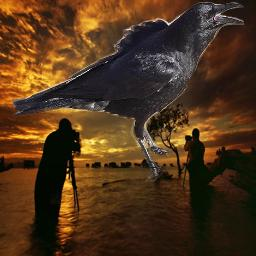Crow: (12, 1, 244, 182)
